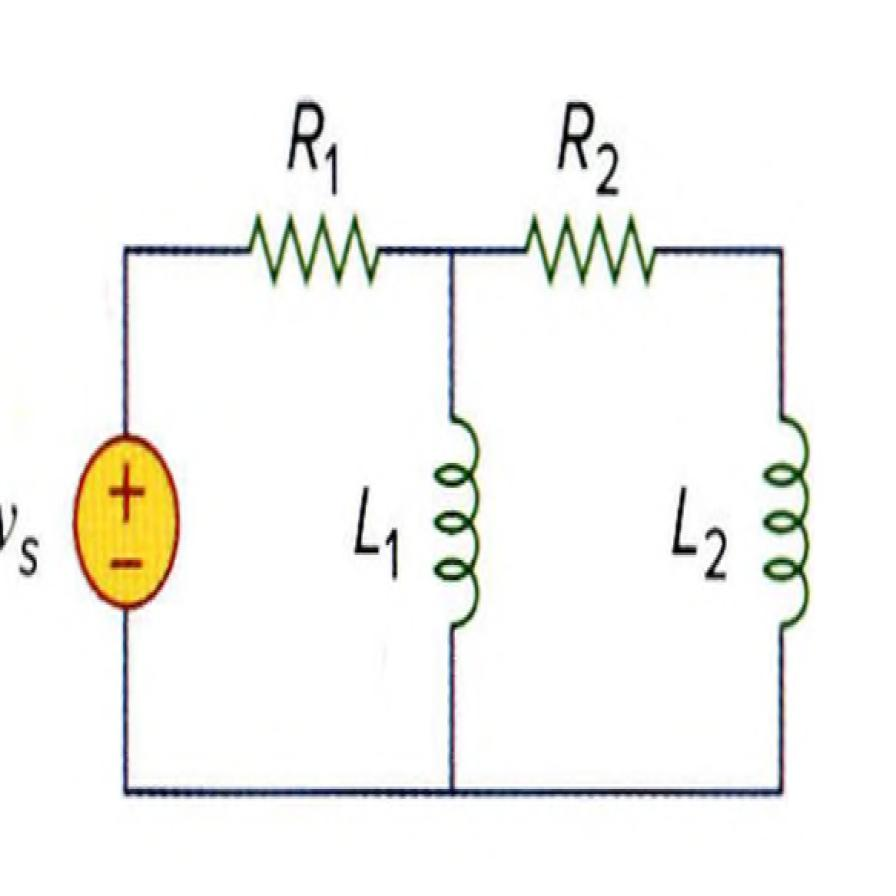L2: (416, 394, 501, 651), (748, 401, 834, 652)
R1: (224, 180, 396, 309), (506, 192, 664, 307)
V1: (63, 414, 189, 626)
